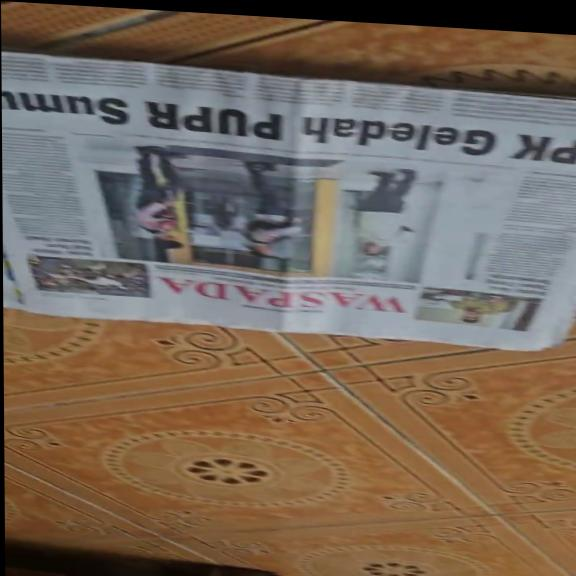Kertas: (12, 48, 576, 351)
